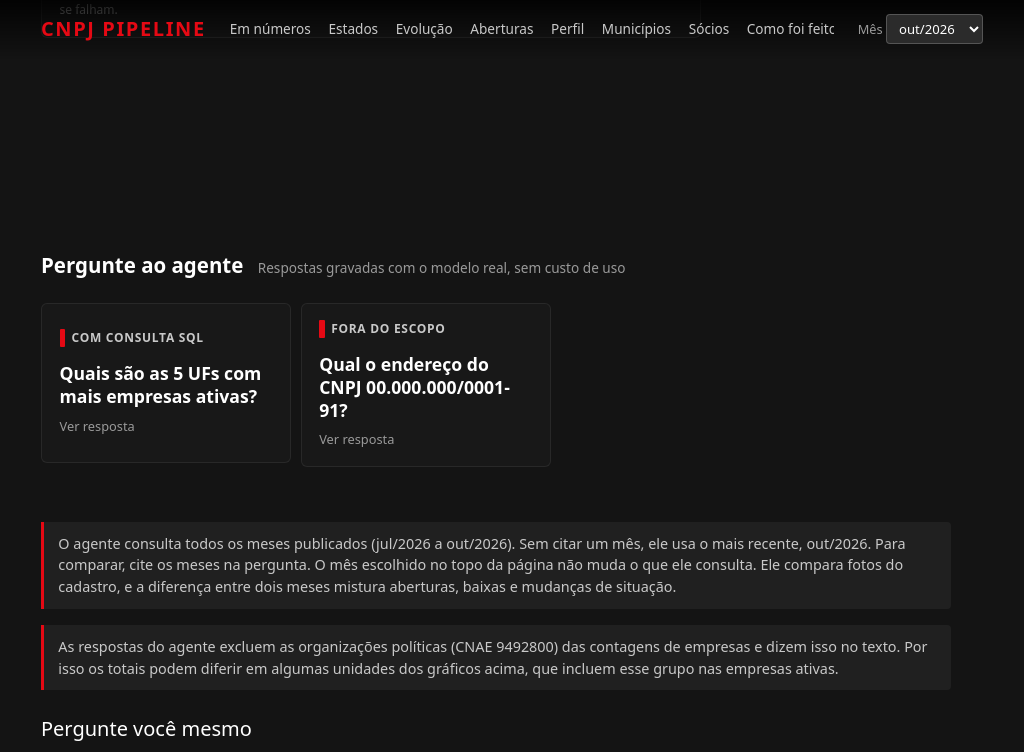
agente › mostra a recusa gravada para pergunta fora do escopo
(page scrolled)
Click the button "endereço do CNPJ" at (426, 385), box [300, 303, 550, 467]
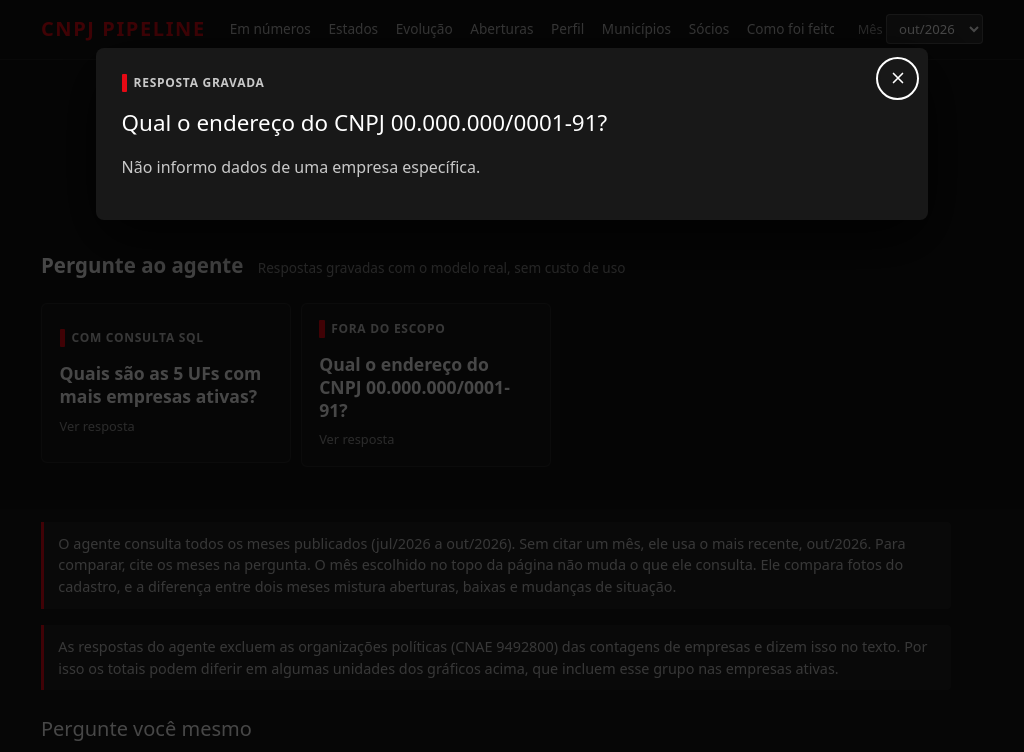
Check: the text "Não informo dados de uma empresa específica." is shown, box [122, 156, 480, 178]
